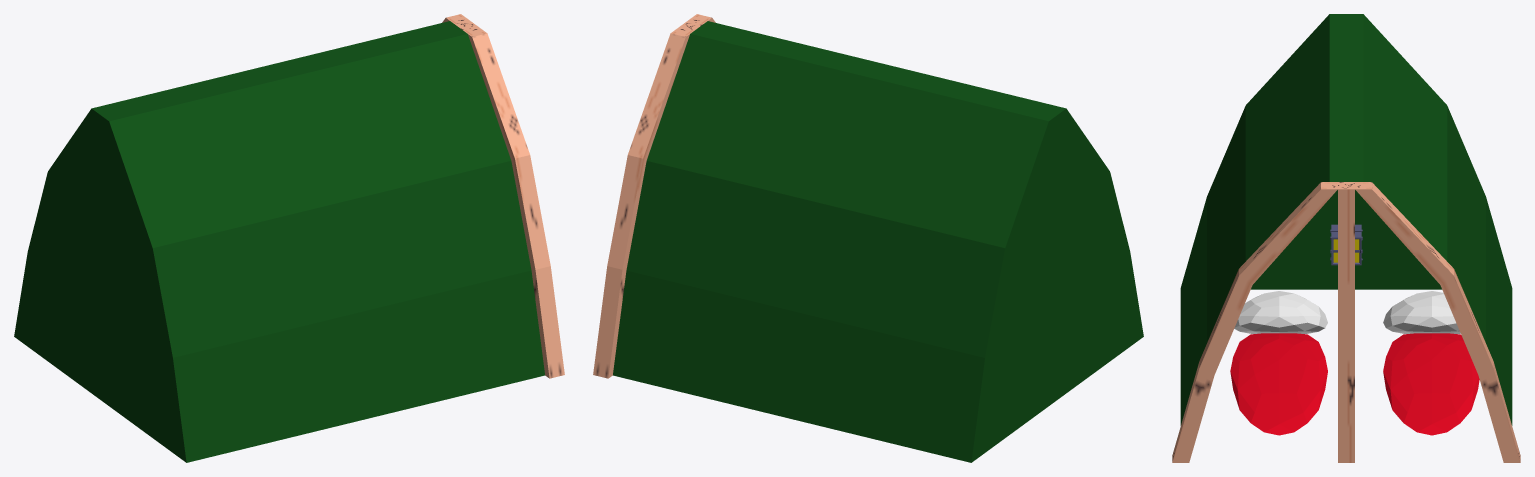
The model's file is Carpa.fbx.
The picture shows the model from 3 angles, left to right: view 1: azimuth 30°, elevation 25°; view 2: azimuth 150°, elevation 25°; view 3: azimuth 270°, elevation 25°; orthographic projection. The views are drawn at different scales.
Visible parts, largest first — view 1: Carpa; view 2: Carpa; view 3: Carpa.
Part boxes in pixels (box(x1,y1,x2,y2)): Carpa: box(14, 14, 564, 462); Carpa: box(593, 14, 1143, 462); Carpa: box(1172, 14, 1520, 462).
Size of the model in its own units: 1130 by 949 by 843.
Materials: 6 (1 with a texture image).
